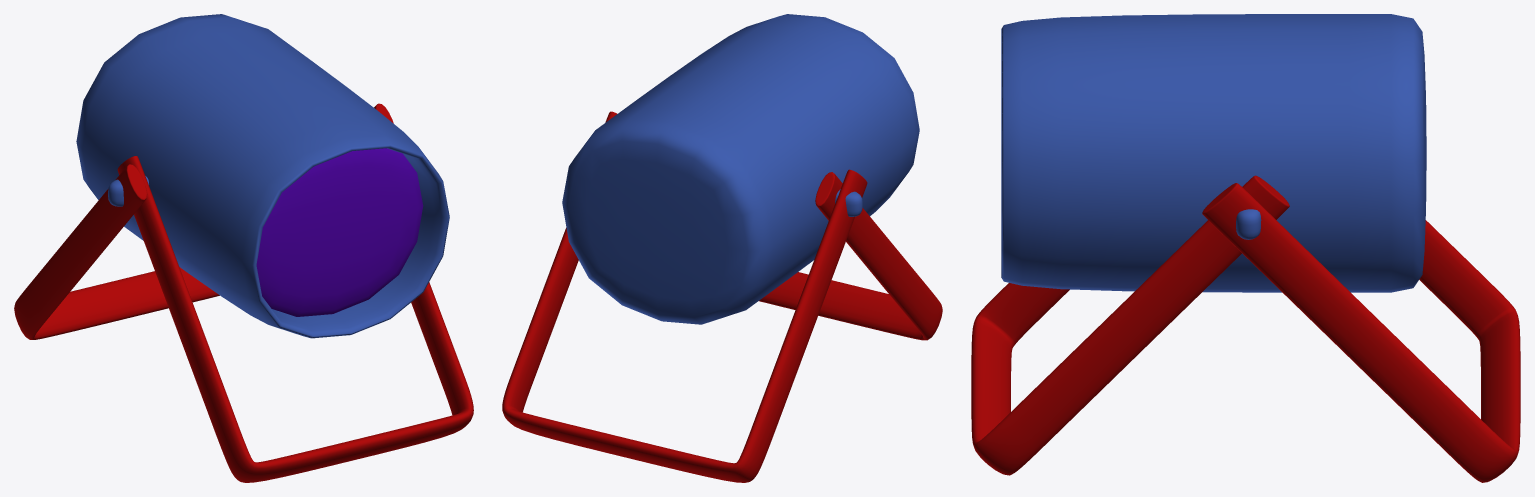
File: Spotlight.fbx
3 views of the same model, side by side, from view 1: azimuth 30°, elevation 25°; view 2: azimuth 150°, elevation 25°; view 3: azimuth 270°, elevation 25° (orthographic). The views are drawn at different scales.
Parts seen in each view (by area): view 1: spotlight_body, lens, front_leg, back_leg; view 2: spotlight_body, back_leg, front_leg; view 3: spotlight_body, back_leg, front_leg, tabs.
Part boxes in pixels (x1,y1,x2,y2): spotlight_body: (76, 14, 449, 338); lens: (256, 148, 423, 316); front_leg: (117, 156, 473, 482); back_leg: (14, 103, 393, 339); spotlight_body: (562, 14, 919, 324); back_leg: (502, 111, 867, 482); front_leg: (759, 172, 942, 340); spotlight_body: (1001, 14, 1426, 292); back_leg: (1202, 183, 1520, 482); front_leg: (971, 175, 1289, 475); tabs: (1236, 209, 1261, 239).
Size of the model in its own units: 12.08 by 13.25 by 17.14.
